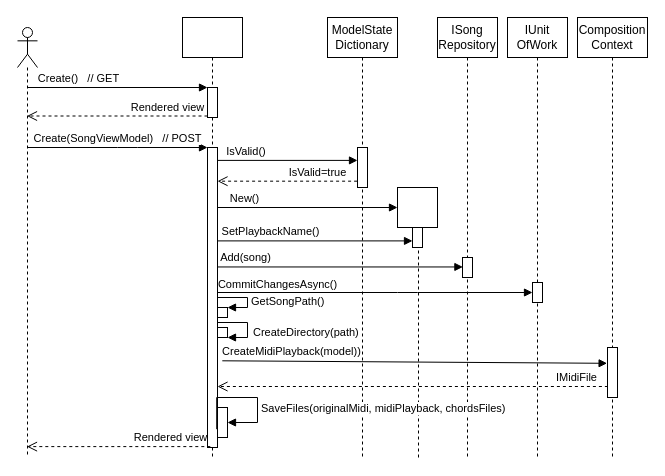
Some shapes in this 665 by 476 pixel diagram are drawn without their labels. The shapes that lost their labels are listed below. From the top down, each one's box as (x1, y1, x2, y2) in pixels, then its label:
(396, 186, 438, 228): Song
(182, 16, 242, 458): :Songs Controller
